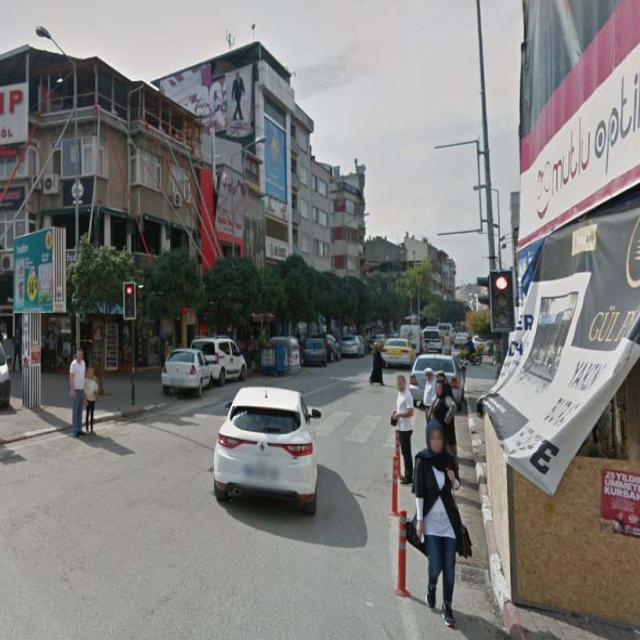kirmizi: (489, 272, 513, 331), (124, 284, 134, 318)
